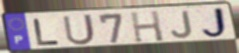7: (97, 12, 126, 45)
H: (129, 9, 166, 43)
J: (200, 6, 231, 40), (170, 9, 195, 40)
L: (31, 17, 62, 47)
U: (61, 13, 98, 47)
